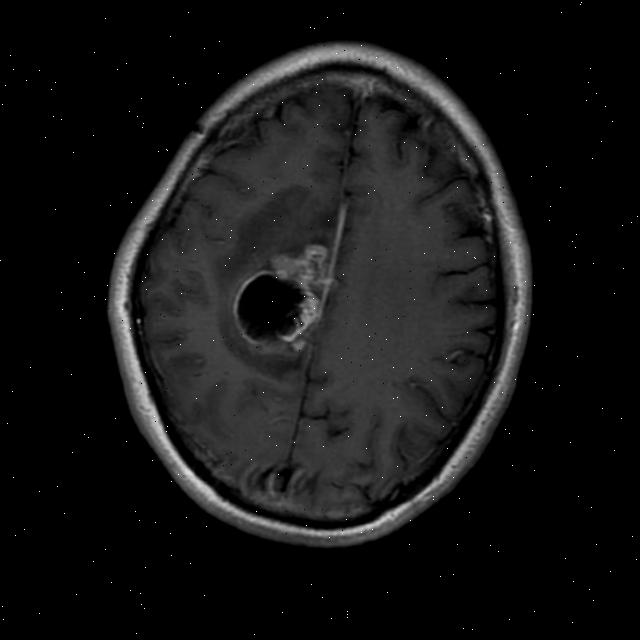Glioma: (222, 228, 343, 360)
